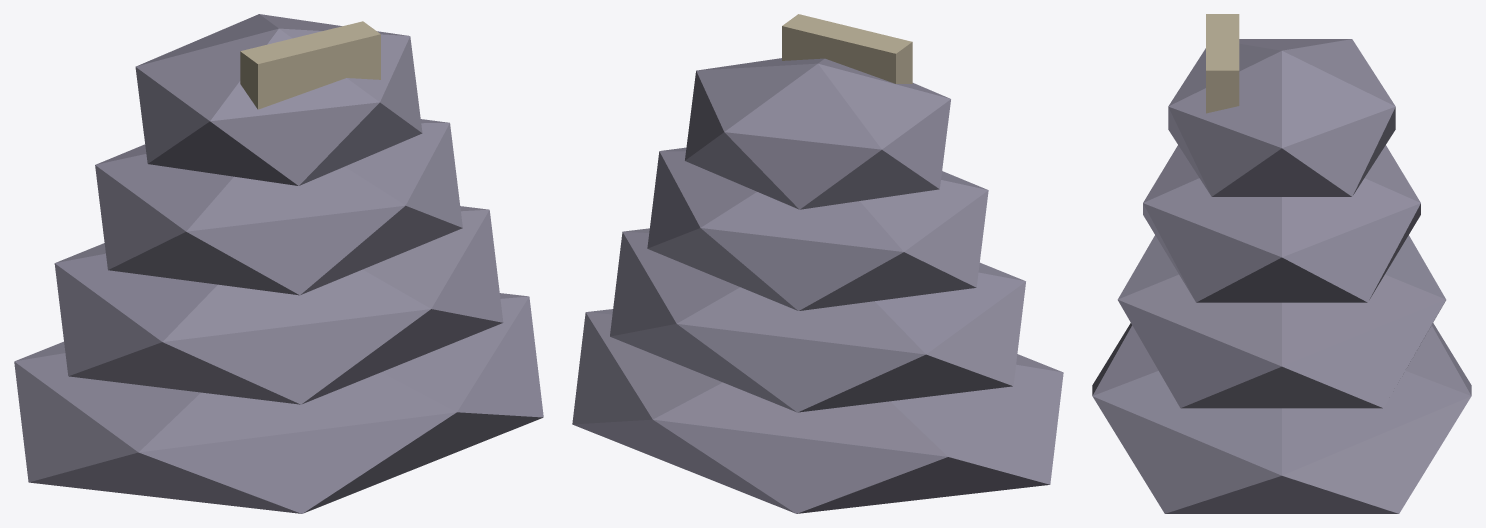
The model's file is map-exclusive-v3__highland_08.glb.
The picture shows the model from 3 angles, left to right: view 1: azimuth 30°, elevation 25°; view 2: azimuth 150°, elevation 25°; view 3: azimuth 270°, elevation 25°; orthographic projection. The views are drawn at different scales.
Visible parts, largest first — view 1: highland_08; view 2: highland_08; view 3: highland_08.
Part boxes in pixels (x1=…): highland_08: x1=14, y1=14, x2=543, y2=513; highland_08: x1=572, y1=14, x2=1063, y2=513; highland_08: x1=1092, y1=14, x2=1471, y2=513.
Size of the model in its own units: 1.47 by 1.23 by 1.02.
